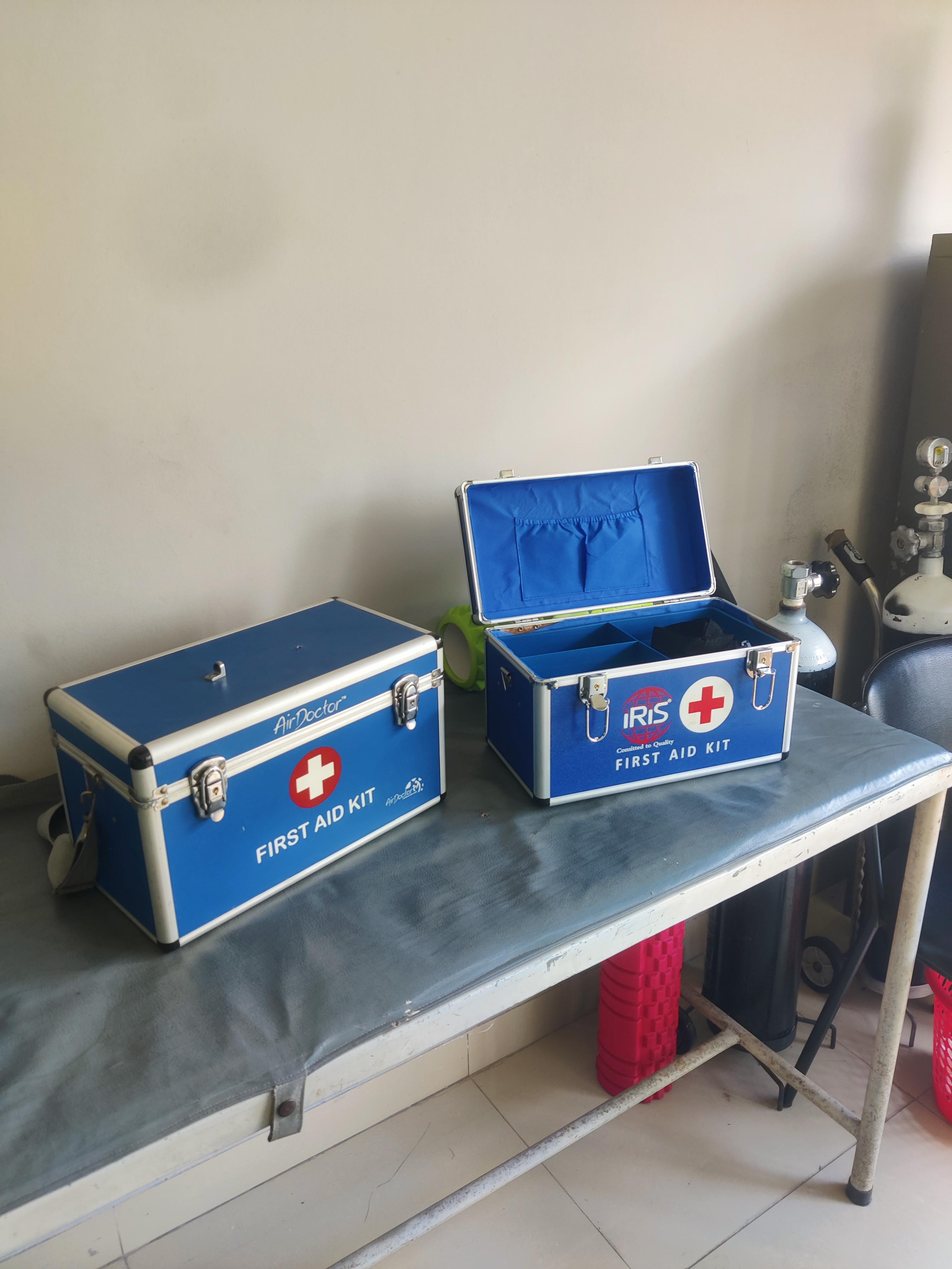FirstAidBox: (16, 582, 455, 980), (454, 450, 822, 812)
